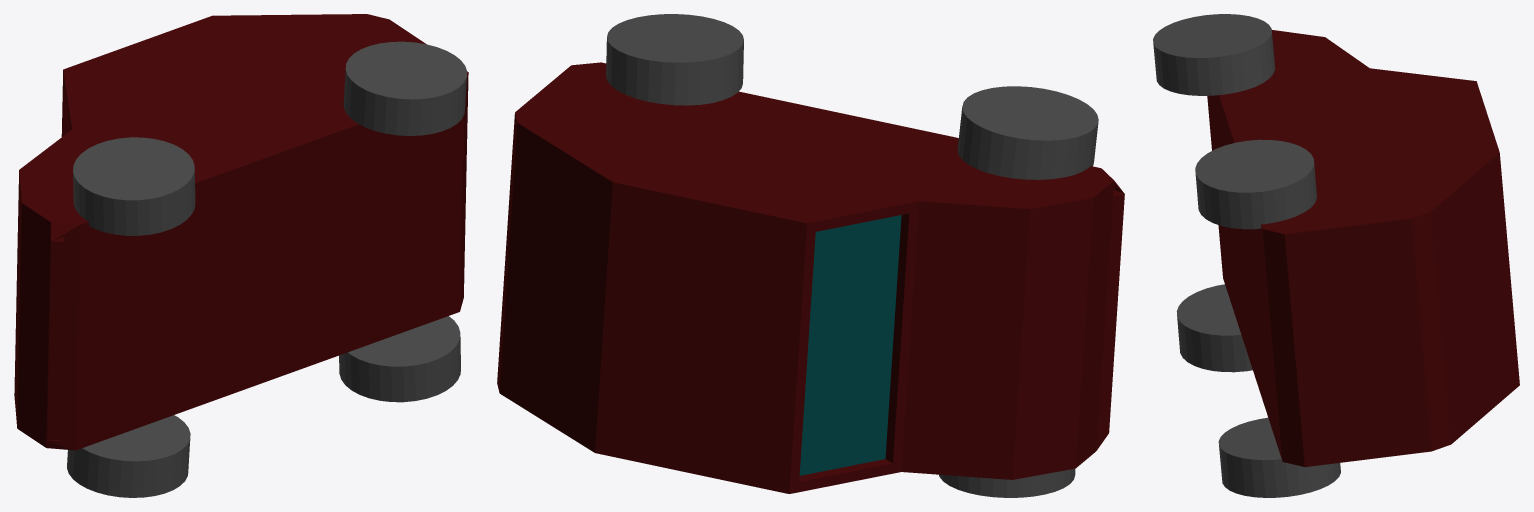
The model's file is kowaretakuruma.fbx.
3 renders of one model, left to right at view 1: azimuth 30°, elevation 25°; view 2: azimuth 150°, elevation 25°; view 3: azimuth 270°, elevation 25°, orthographic. The views are drawn at different scales.
Visible parts, largest first — view 1: Cube, Cylinder.001; view 2: Cube, Cylinder.001; view 3: Cube, Cylinder.001.
Boxes of the visible parts, left/top/right/bottom form: Cube: left=14, top=14, right=468, bottom=450; Cylinder.001: left=67, top=41, right=467, bottom=497; Cube: left=497, top=62, right=1124, bottom=493; Cylinder.001: left=606, top=14, right=1098, bottom=497; Cube: left=1207, top=30, right=1519, bottom=466; Cylinder.001: left=1153, top=14, right=1340, bottom=497.
Size of the model in its own units: 410 by 281 by 288.
